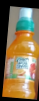orange: (2, 8, 38, 99)
